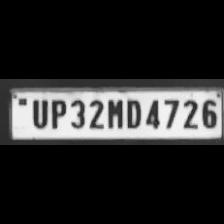2: (178, 96, 198, 130), (86, 96, 104, 130)
3: (66, 97, 86, 129)
4: (142, 96, 160, 130)
6: (198, 96, 218, 130)
7: (160, 97, 180, 129)
D: (124, 97, 142, 129)
M: (104, 96, 122, 130)
P: (47, 97, 66, 129)
U: (28, 97, 48, 129)
